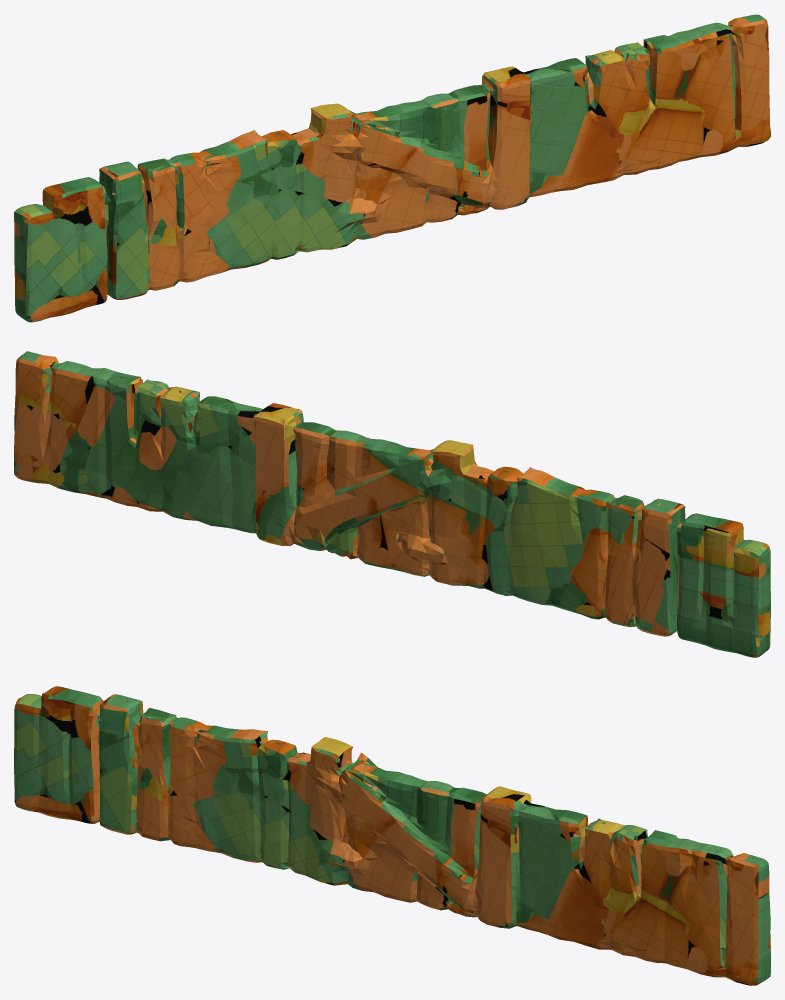
File: Cornner fence 2.obj
3 views of the same model, one above another, from view 1: azimuth 30°, elevation 25°; view 2: azimuth 150°, elevation 25°; view 3: azimuth 330°, elevation 25° (orthographic).
Parts seen in each view (by area): view 1: tripo_node_2b47b259-0fcb-4447-8d44-40f926f4ab4f; view 2: tripo_node_2b47b259-0fcb-4447-8d44-40f926f4ab4f; view 3: tripo_node_2b47b259-0fcb-4447-8d44-40f926f4ab4f.
Part boxes in pixels (x1=…): tripo_node_2b47b259-0fcb-4447-8d44-40f926f4ab4f: x1=14, y1=14, x2=770, y2=322; tripo_node_2b47b259-0fcb-4447-8d44-40f926f4ab4f: x1=14, y1=351, x2=770, y2=657; tripo_node_2b47b259-0fcb-4447-8d44-40f926f4ab4f: x1=14, y1=686, x2=770, y2=985.
Size of the model in its own units: 1 by 0.1721 by 0.0485.
